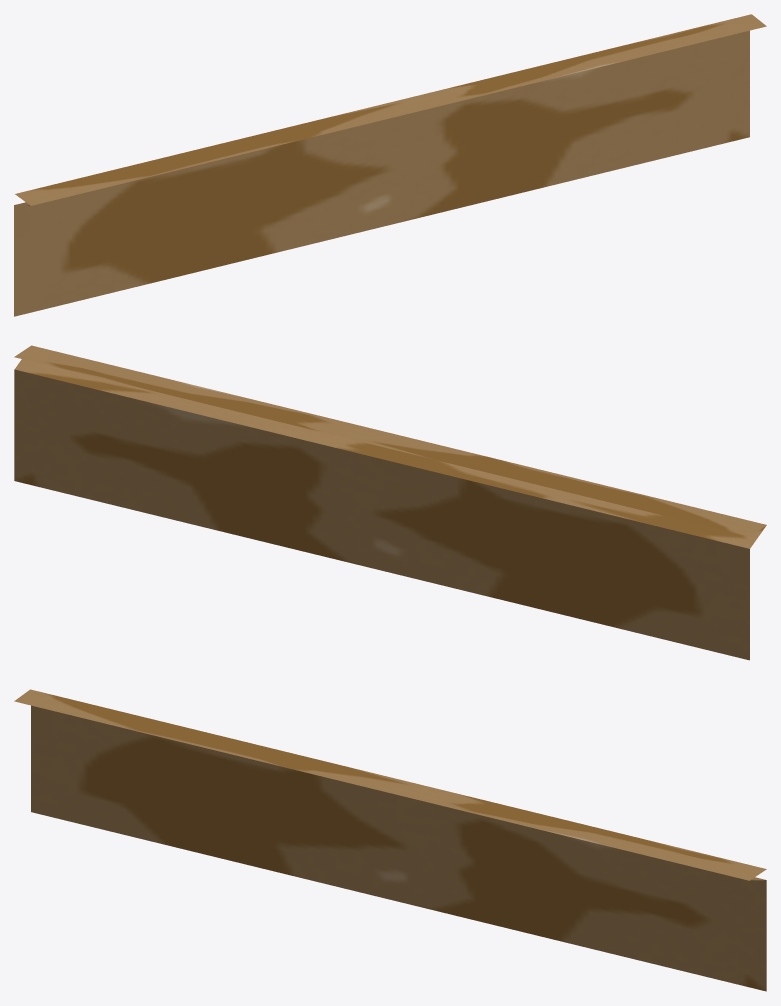
The model's file is Base_Straight_01.fbx.
3 renders of one model, top to bottom at view 1: azimuth 30°, elevation 25°; view 2: azimuth 150°, elevation 25°; view 3: azimuth 330°, elevation 25°, orthographic.
Visible parts, largest first — view 1: Cube.008; view 2: Cube.008; view 3: Cube.008.
Boxes of the visible parts, x1,y1,x2,y2 form: Cube.008: (14,14,766,316); Cube.008: (14,345,766,660); Cube.008: (14,689,766,991).
Size of the model in its own units: 250 by 40 by 10.
